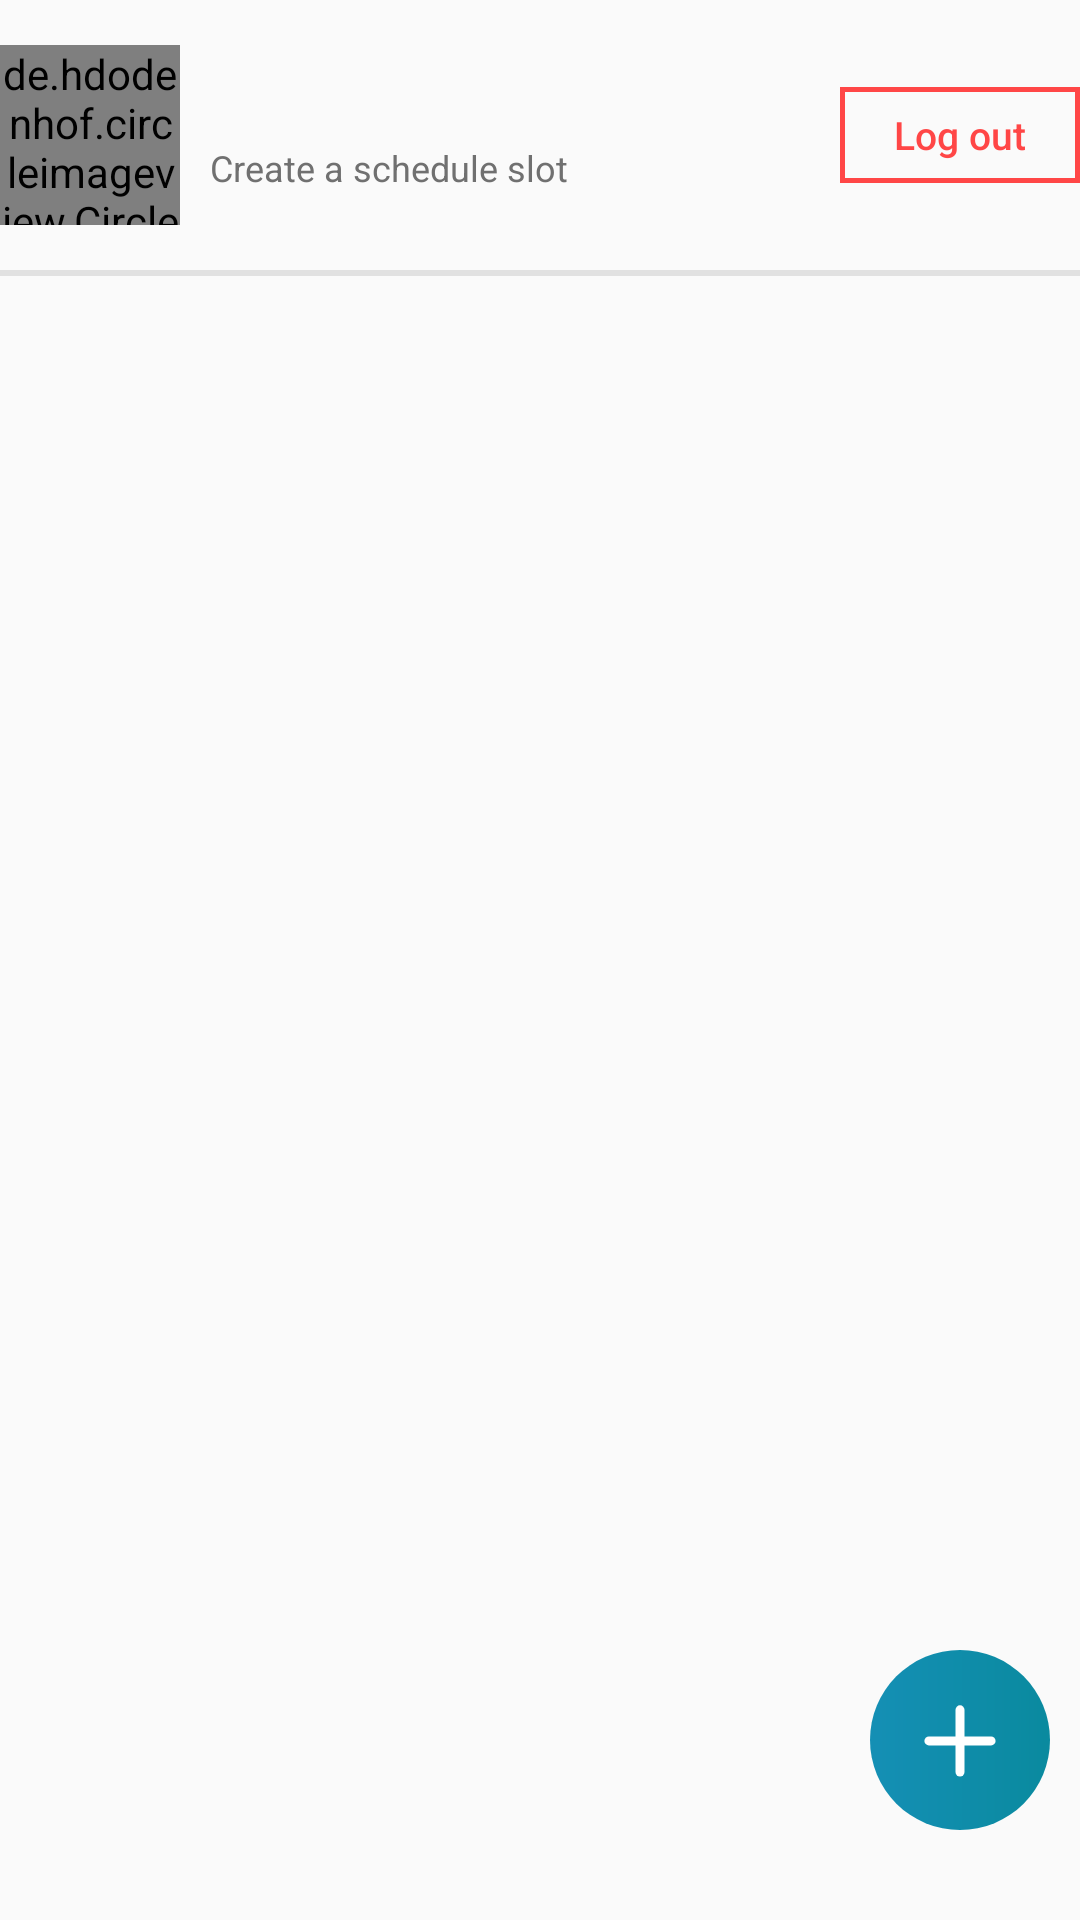

Named icons in this screenshot (1080px x 1920px) and their bounding boxes, bbox(x1, y1, x2, y2):
create slot: bbox(870, 1650, 1050, 1830)
